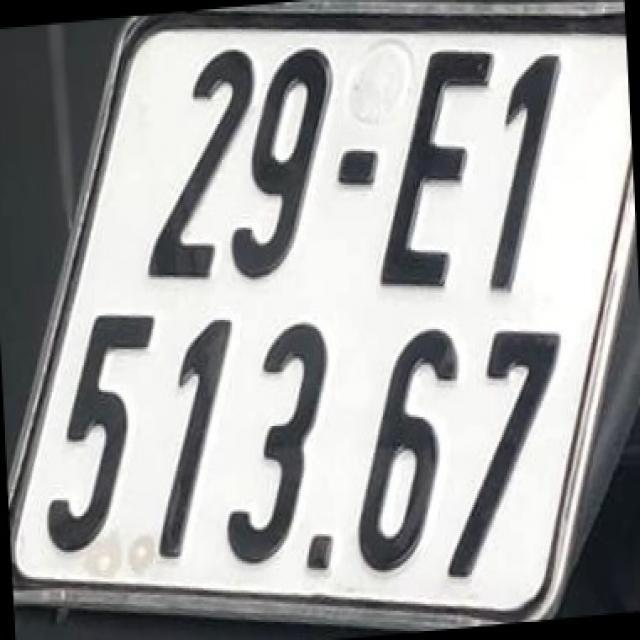1: (151, 316, 237, 558), (486, 45, 566, 293)
2: (141, 38, 250, 282)
3: (224, 313, 328, 568)
5: (46, 304, 154, 559)
6: (353, 322, 457, 575)
7: (446, 322, 560, 584)
9: (238, 45, 336, 291)
E: (383, 36, 487, 289)
